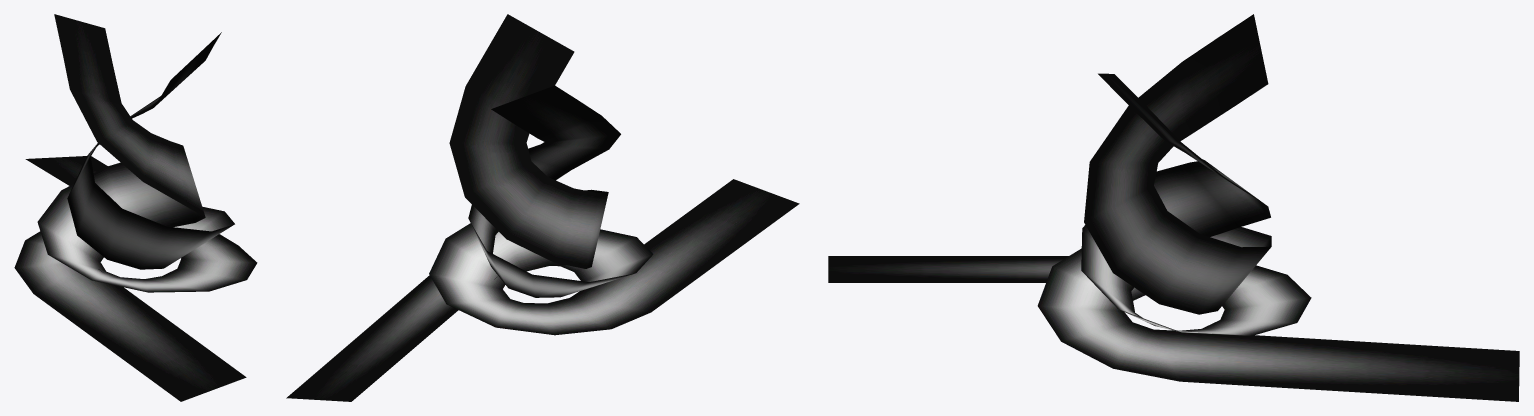
The model's file is vfx_kurp_0365.dae.
3 renders of one model, left to right at view 1: azimuth 30°, elevation 25°; view 2: azimuth 150°, elevation 25°; view 3: azimuth 270°, elevation 25°, orthographic. The views are drawn at different scales.
Parts seen in each view (by area): view 1: vfx_kurp_0365; view 2: vfx_kurp_0365; view 3: vfx_kurp_0365.
Boxes of the visible parts, x1,y1,x2,y2 form: vfx_kurp_0365: (14,14,257,401); vfx_kurp_0365: (286,14,799,401); vfx_kurp_0365: (828,14,1519,401).
Bounding box in the file's own units: 6.25 × 15.46 × 7.48.
1 material, 1 textured.
